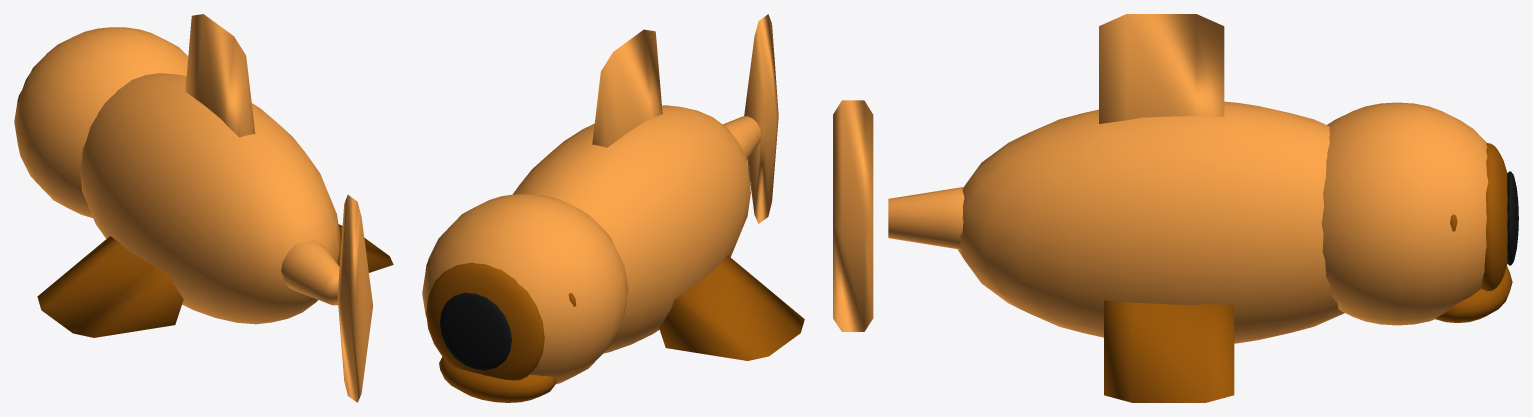
The model's file is Hammerfish.glb.
The picture shows the model from 3 angles, left to right: view 1: azimuth 30°, elevation 25°; view 2: azimuth 150°, elevation 25°; view 3: azimuth 270°, elevation 25°; orthographic projection. The views are drawn at different scales.
Visible parts, largest first — view 1: Body, Head, LeftFin, Tail, Fin, RightFin; view 2: Head, Body, LeftFin, Fin, Tail, Jaw; view 3: Body, Head, Tail, Fin, RightFin, Jaw.
Part boxes in pixels (x1,y1,x2,y2): Body: [80, 73, 340, 324]; Head: [14, 27, 188, 217]; LeftFin: [37, 236, 183, 337]; Tail: [281, 195, 372, 402]; Fin: [185, 14, 255, 137]; RightFin: [337, 224, 393, 272]; Head: [422, 194, 628, 384]; Body: [513, 105, 750, 353]; LeftFin: [659, 255, 804, 360]; Fin: [592, 29, 662, 147]; Tail: [723, 14, 778, 223]; Jaw: [439, 357, 556, 402]; Body: [957, 101, 1344, 343]; Head: [1321, 102, 1518, 325]; Tail: [833, 100, 964, 331]; Fin: [1099, 14, 1224, 123]; RightFin: [1104, 300, 1234, 402]; Jaw: [1435, 266, 1512, 322].
Bounding box in the file's own units: 0.8702 × 0.7356 × 1.42.
Materials: 1 (1 with a texture image).
